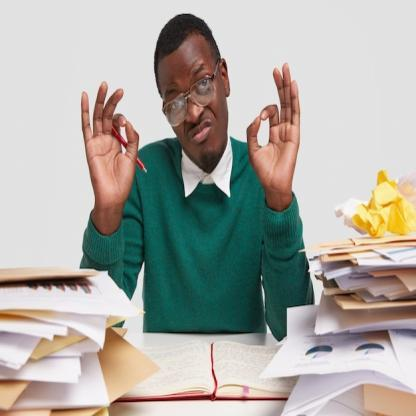ok: (78, 78, 142, 206), (244, 62, 304, 198)
